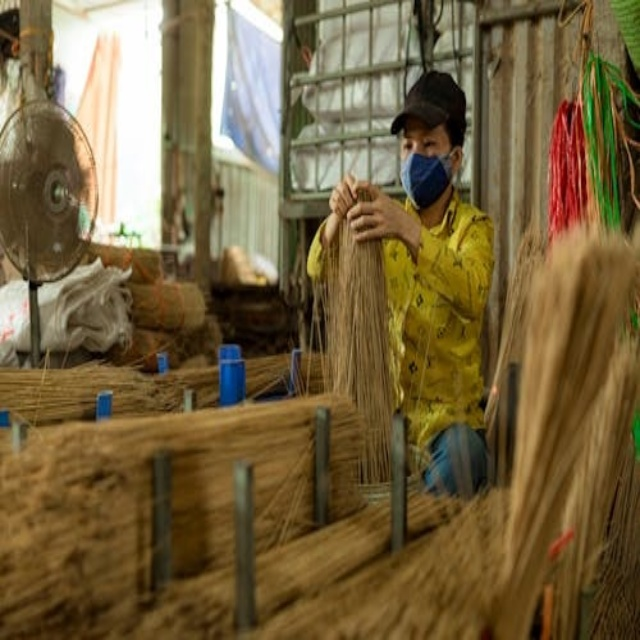Mascara: (399, 146, 456, 210)
Sin_gafas: (401, 129, 443, 154)
Sin_guantes: (326, 169, 392, 244)
